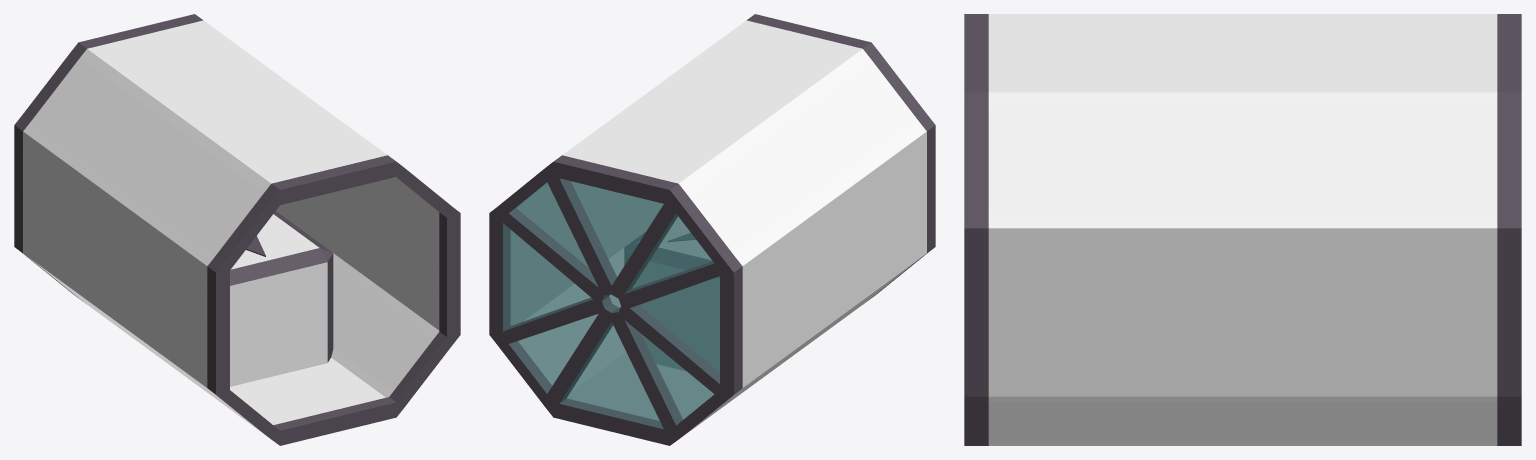
File: TunnelInit.fbx
3 views of the same model, side by side, from view 1: azimuth 30°, elevation 25°; view 2: azimuth 150°, elevation 25°; view 3: azimuth 270°, elevation 25° (orthographic). The views are drawn at different scales.
Parts seen in each view (by area): view 1: TunnelSectionInit, PlatformInit; view 2: TunnelSectionInit, PlatformInit; view 3: TunnelSectionInit.
Part boxes in pixels (box(x1,y1,x2,y2)): TunnelSectionInit: box(14, 14, 460, 445); PlatformInit: box(230, 211, 333, 386); TunnelSectionInit: box(489, 14, 935, 445); PlatformInit: box(624, 217, 719, 371); TunnelSectionInit: box(964, 14, 1521, 445).
Bounding box in the file's own units: 42 × 42 × 60.
